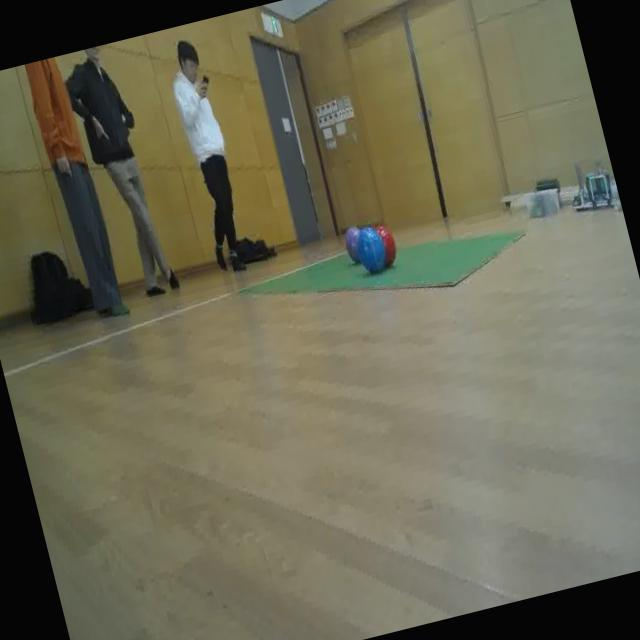blue_ball: (352, 223, 390, 276)
purple_ball: (341, 223, 366, 266)
red_ball: (371, 220, 400, 266)
